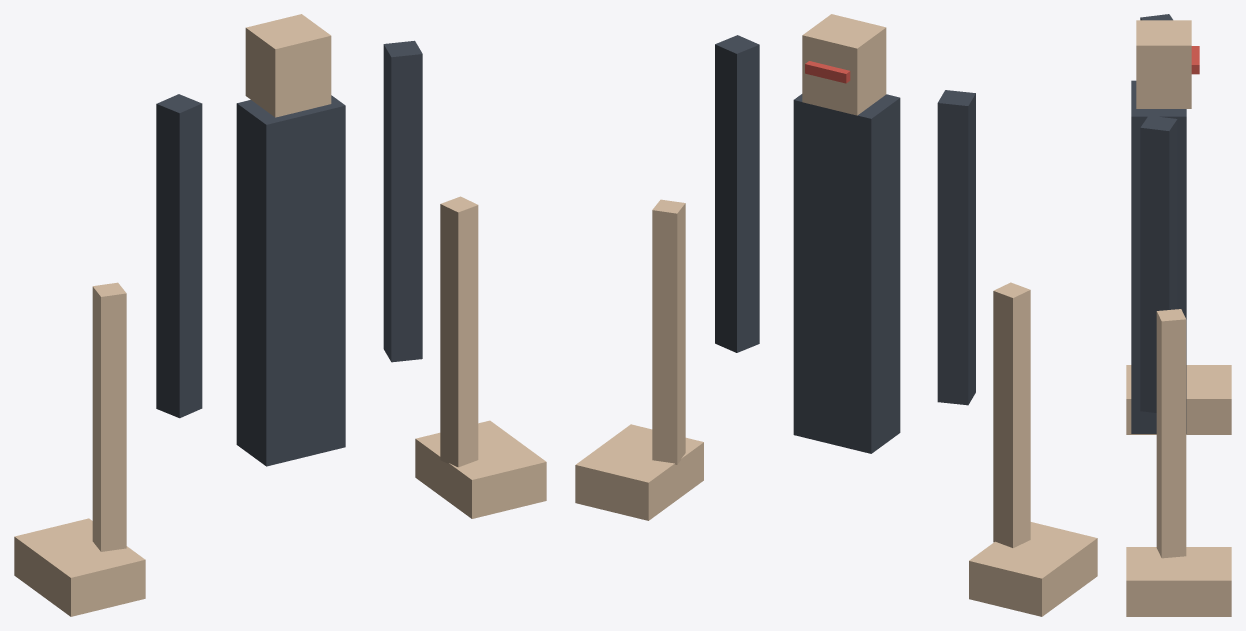
The model's file is horror_gigante.glb.
3 views of the same model, side by side, from view 1: azimuth 30°, elevation 25°; view 2: azimuth 150°, elevation 25°; view 3: azimuth 270°, elevation 25° (orthographic). The views are drawn at different scales.
Visible parts, largest first — view 1: thin_body, long_arm_a (×2), long_arm_b (×2), giant_hand (×2), old_head; view 2: thin_body, long_arm_a (×2), long_arm_b (×2), giant_hand (×2), old_head; view 3: giant_hand (×2), long_arm_a (×2), long_arm_b, thin_body, old_head, red_eyes.
Boxes of the visible parts, <box> form: thin_body: <box>236,95,345,466</box>; long_arm_a (×2): <box>156,40,422,418</box>; long_arm_b (×2): <box>92,196,478,551</box>; giant_hand (×2): <box>14,420,546,616</box>; old_head: <box>245,14,331,117</box>; thin_body: <box>793,94,900,453</box>; long_arm_a (×2): <box>715,35,975,405</box>; long_arm_b (×2): <box>652,199,1030,547</box>; giant_hand (×2): <box>575,424,1097,616</box>; old_head: <box>802,14,886,115</box>; giant_hand (×2): <box>1126,365,1231,616</box>; long_arm_a (×2): <box>1140,14,1177,412</box>; long_arm_b: <box>1156,309,1186,558</box>; thin_body: <box>1131,80,1186,433</box>; old_head: <box>1136,20,1191,108</box>; red_eyes: <box>1191,46,1199,74</box>.
Bounding box in the file's own units: 2.04 × 2.1 × 0.42.
